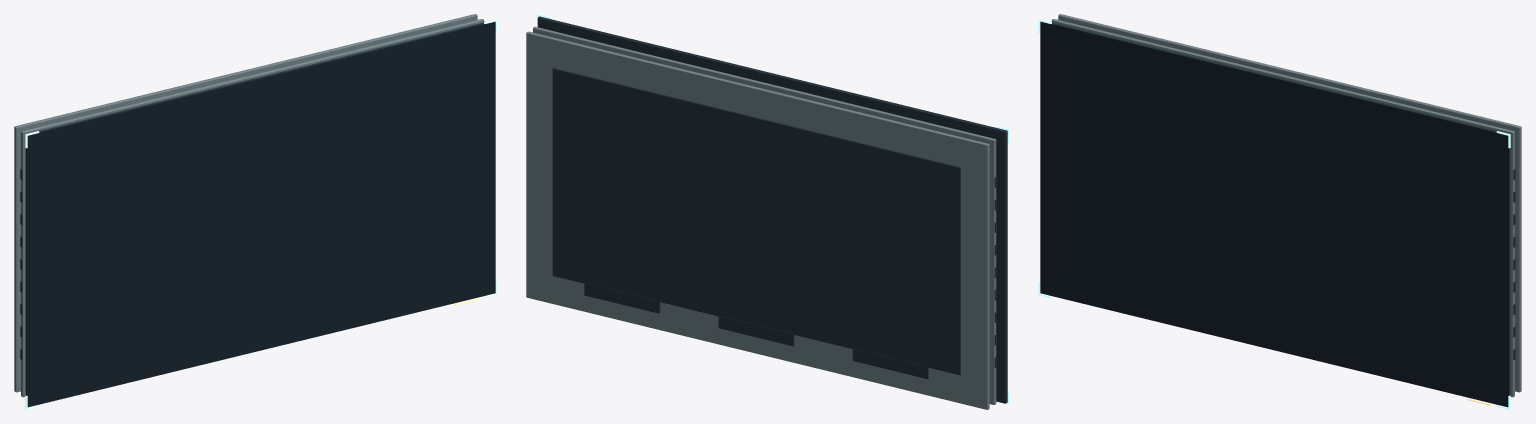
File: ssh-terminal.glb
The picture shows the model from 3 angles, left to right: view 1: azimuth 30°, elevation 25°; view 2: azimuth 150°, elevation 25°; view 3: azimuth 330°, elevation 25°; orthographic projection.
Visible parts, largest first — view 1: Terminal_Screen, Rear plate, Thermal sheet, Glass substrate; view 2: Rear recess, Rear plate, Glass substrate, Thermal sheet, Interface recess.001, Interface recess, Interface recess.002, Terminal_Screen; view 3: Terminal_Screen, Rear plate, Thermal sheet, Glass substrate.
Boxes of the visible parts, box(x1,y1,x2,y2) form: Terminal_Screen: box(27, 21, 495, 407); Rear plate: box(14, 14, 477, 392); Thermal sheet: box(21, 19, 484, 397); Glass substrate: box(25, 22, 483, 395); Rear recess: box(552, 68, 960, 375); Rear plate: box(526, 31, 989, 409); Glass substrate: box(537, 17, 1006, 403); Thermal sheet: box(533, 26, 996, 404); Interface recess.001: box(718, 315, 794, 346); Interface recess: box(852, 348, 928, 379); Interface recess.002: box(584, 283, 660, 313); Terminal_Screen: box(539, 16, 1007, 402); Terminal_Screen: box(1040, 21, 1508, 407); Rear plate: box(1058, 14, 1521, 392); Thermal sheet: box(1051, 19, 1514, 397); Glass substrate: box(1052, 22, 1510, 395).
Size of the model in its own units: 4.39 by 2.45 by 0.287.
